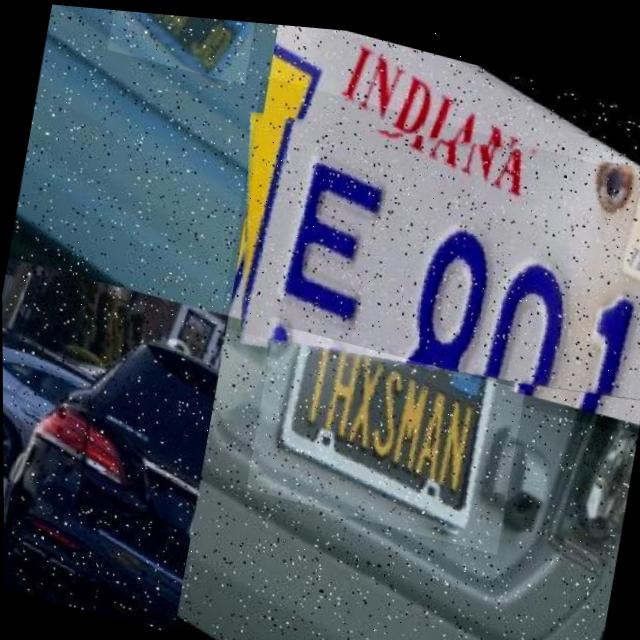LicensePlate: (216, 66, 640, 425), (244, 316, 525, 548), (106, 7, 257, 82)
